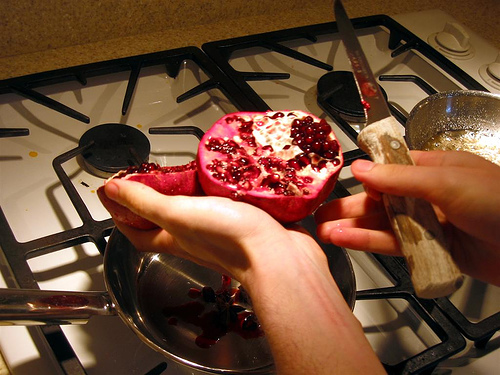pomogranate: (196, 111, 343, 220)
